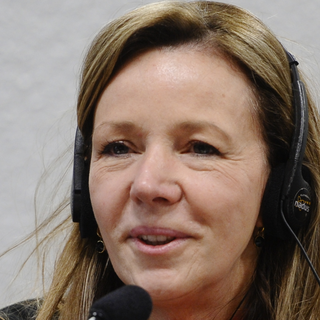eye: (172, 134, 229, 166), (95, 135, 147, 164)
